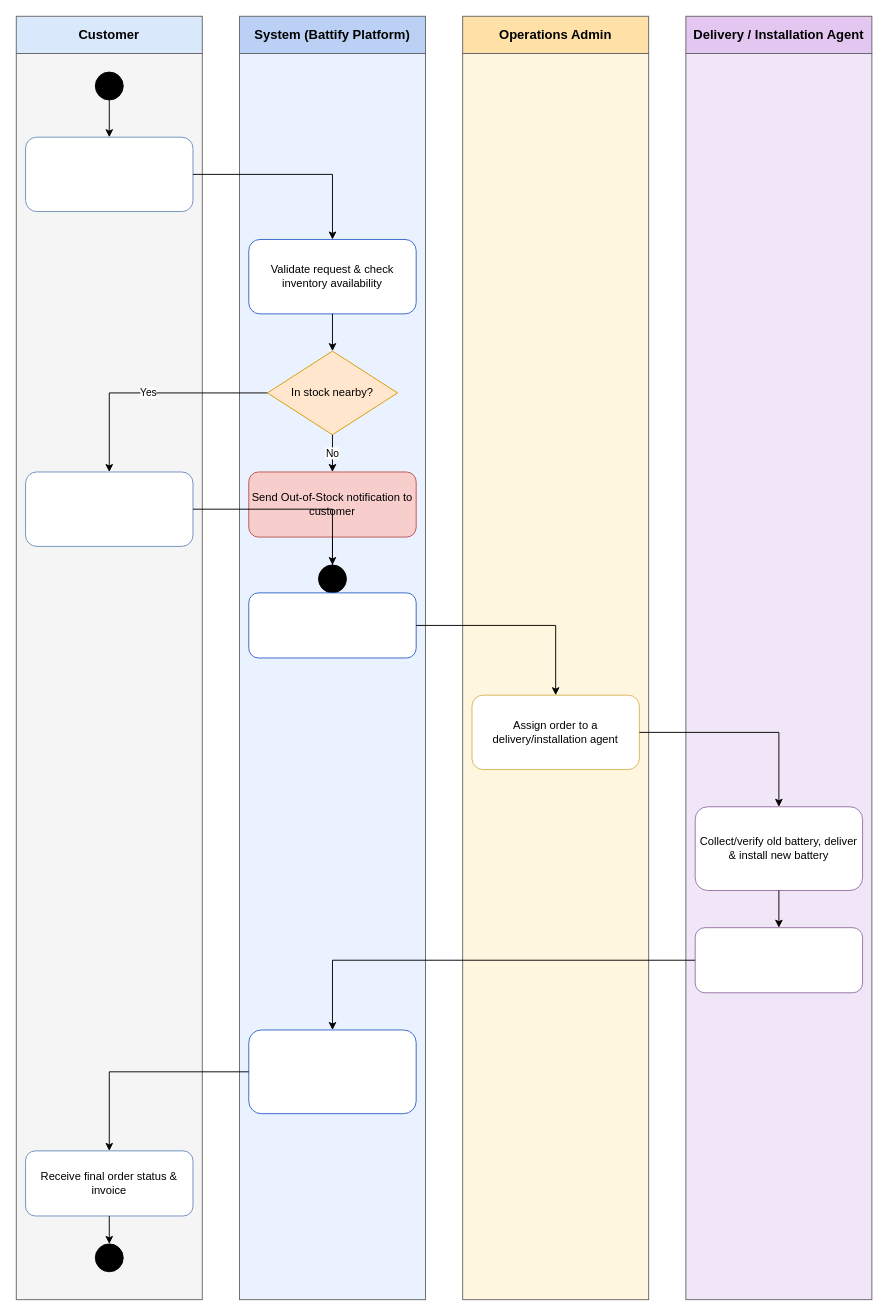
This 888x1316 diagram has some shape labels left out. The box of each missing label's shape, as (x1, y1, x2, y2) in pixels:
Calculate buyback credit & final invoice amount; mark order Completed: (248, 1029, 416, 1114)
Create order & assign a unique Order ID: (248, 592, 416, 658)
Record old battery for buyback / recycling: (694, 927, 863, 993)
Select battery, capacity & vehicle/application details: (25, 136, 193, 212)
Select delivery location & preferred service slot: (25, 471, 193, 546)
